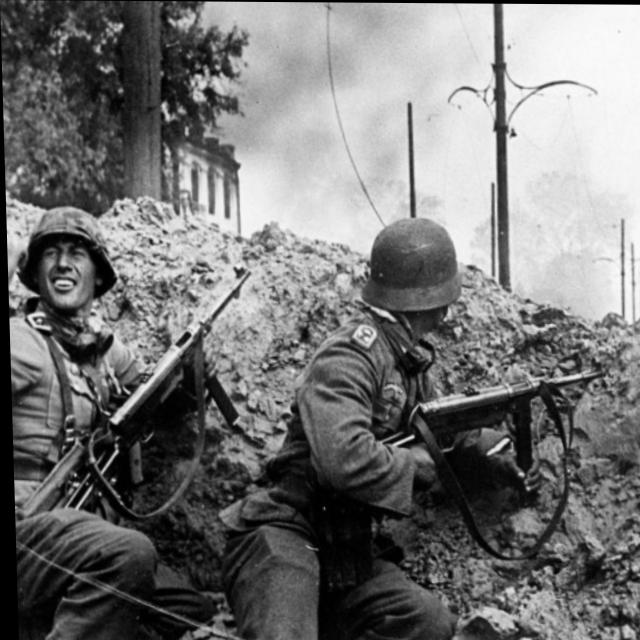other: (216, 214, 477, 640), (5, 207, 165, 640)
